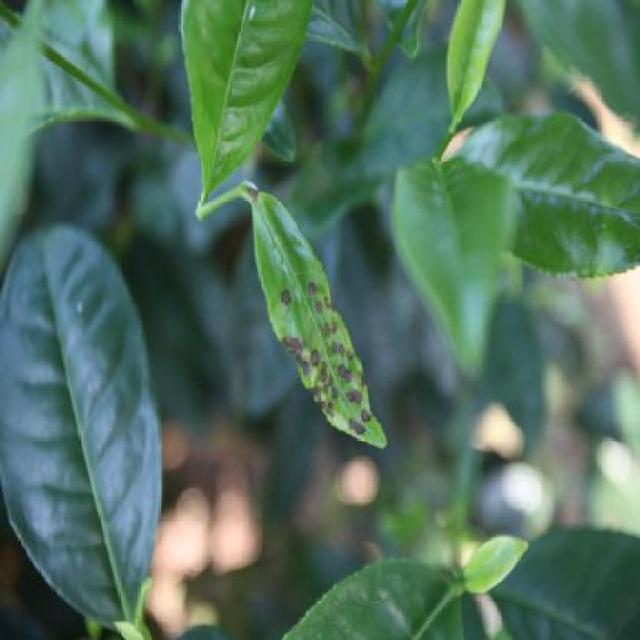Tea Mosquito bug infested leaf: (250, 200, 384, 454)
